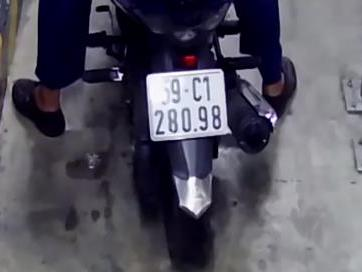num_plate: (145, 68, 227, 140)
